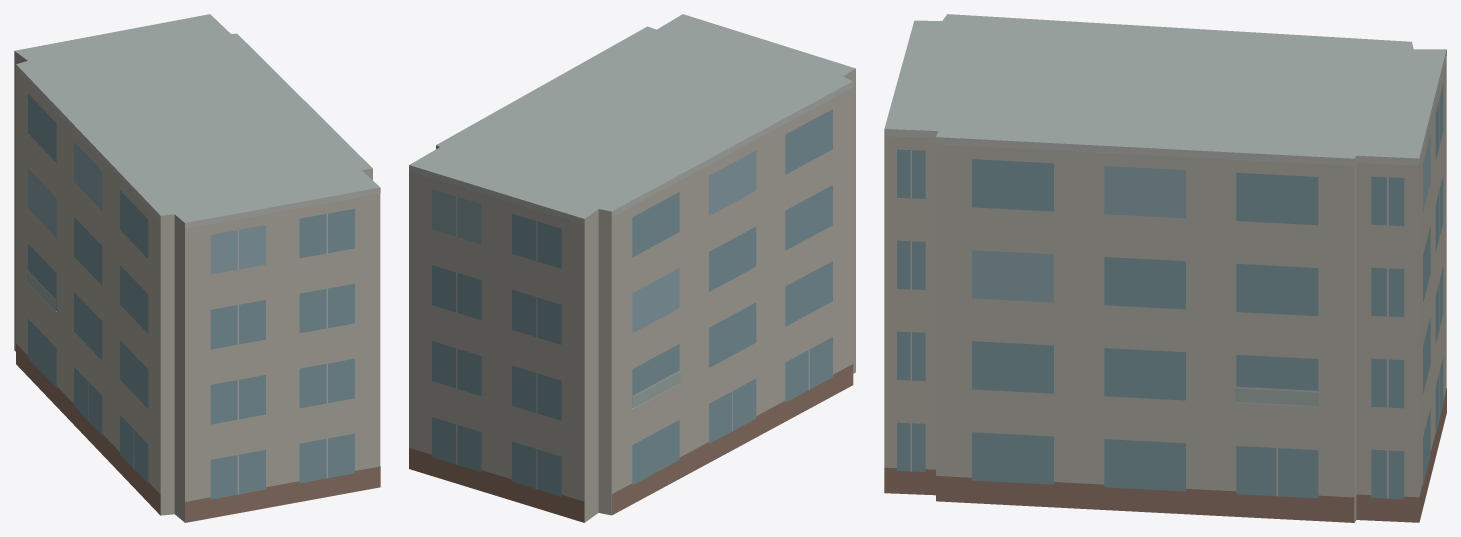
Rendered from survey-upis-32945239.glb.
The picture shows the model from 3 angles, left to right: view 1: azimuth 30°, elevation 25°; view 2: azimuth 150°, elevation 25°; view 3: azimuth 270°, elevation 25°; orthographic projection. The views are drawn at different scales.
Visible parts, largest first — view 1: survey-upis-32945239.tmp; view 2: survey-upis-32945239.tmp; view 3: survey-upis-32945239.tmp.
Boxes of the visible parts, box(x1,y1,x2,y2) form: survey-upis-32945239.tmp: box(14, 14, 380, 522); survey-upis-32945239.tmp: box(409, 14, 855, 522); survey-upis-32945239.tmp: box(884, 14, 1446, 522).
Bounding box in the file's own units: 10.62 × 12.45 × 17.43.
